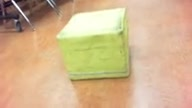cube: (55, 7, 129, 80)
